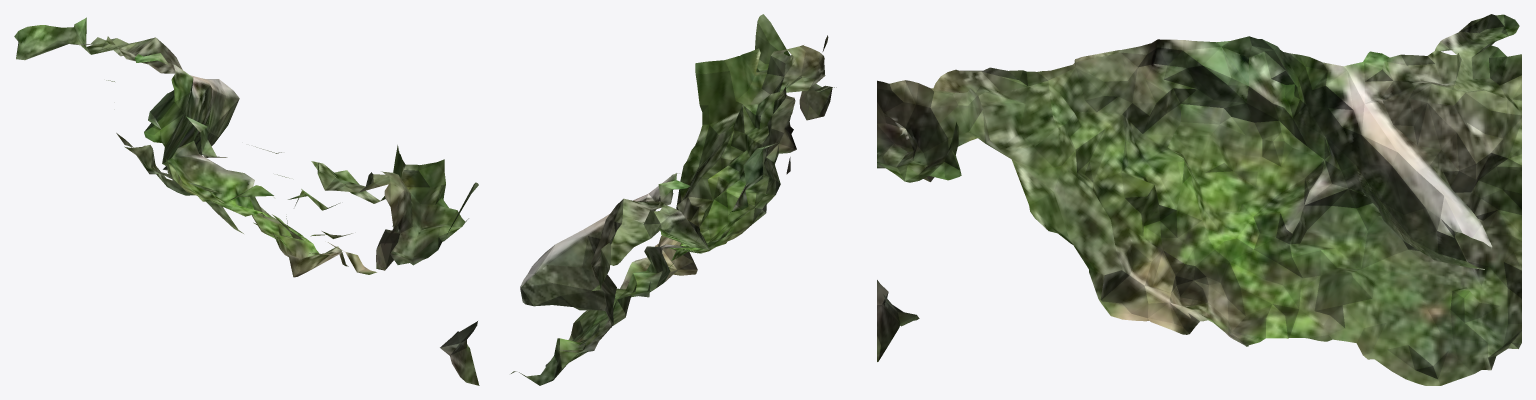
3 views of the same model, side by side, from view 1: azimuth 30°, elevation 25°; view 2: azimuth 150°, elevation 25°; view 3: azimuth 270°, elevation 25° (orthographic). The views are drawn at different scales.
Size of the model in its own units: 1.25 by 1.31 by 2.95.
Materials: 2 (2 with a texture image).
